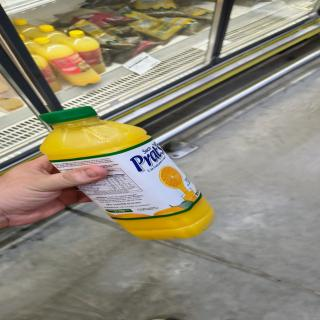Juice: (35, 108, 216, 241)
